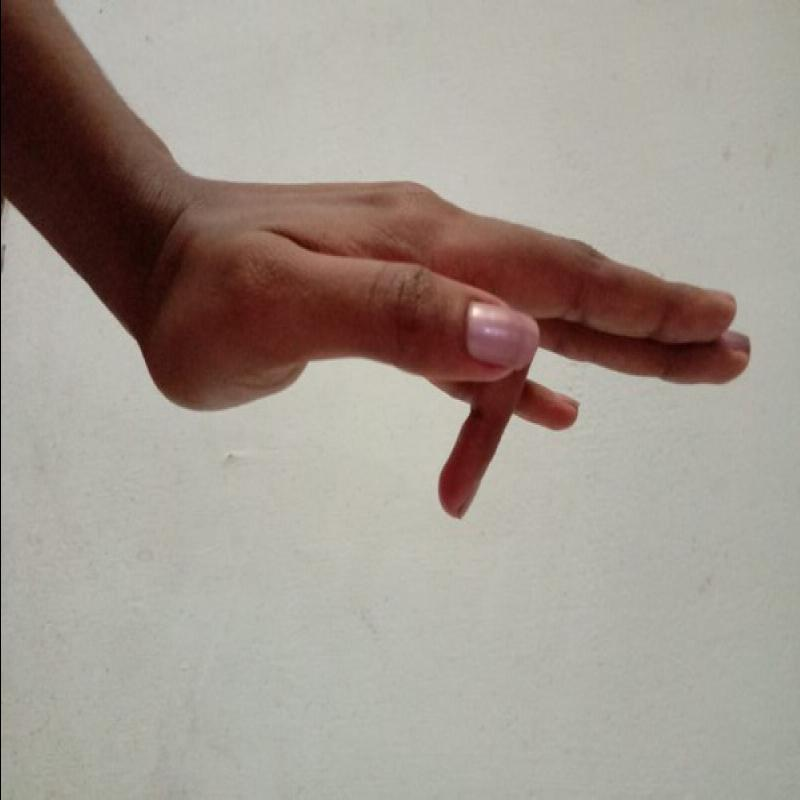Pathaaka: (149, 134, 767, 534)
